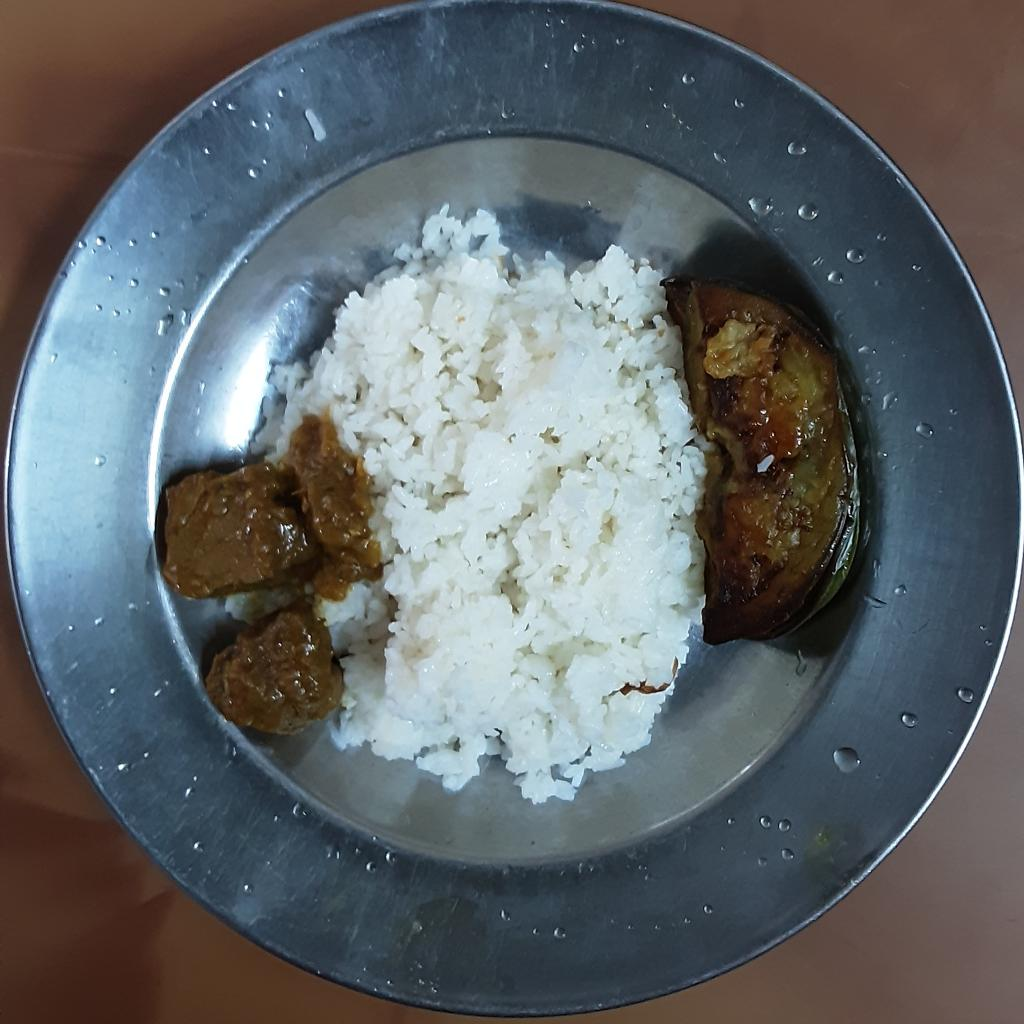beef: (162, 414, 380, 597), (200, 601, 346, 735)
begun-vaji: (678, 278, 859, 647)
rice: (248, 204, 709, 803)
